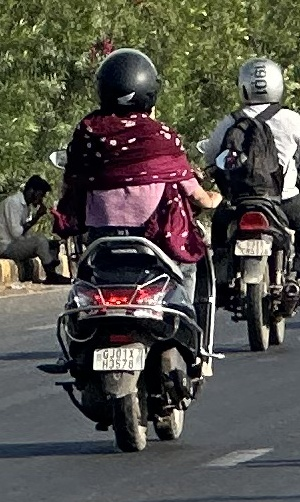BikeWithRider: (47, 44, 223, 454), (208, 53, 300, 352)
Helmet: (93, 44, 163, 118), (233, 54, 286, 108)
